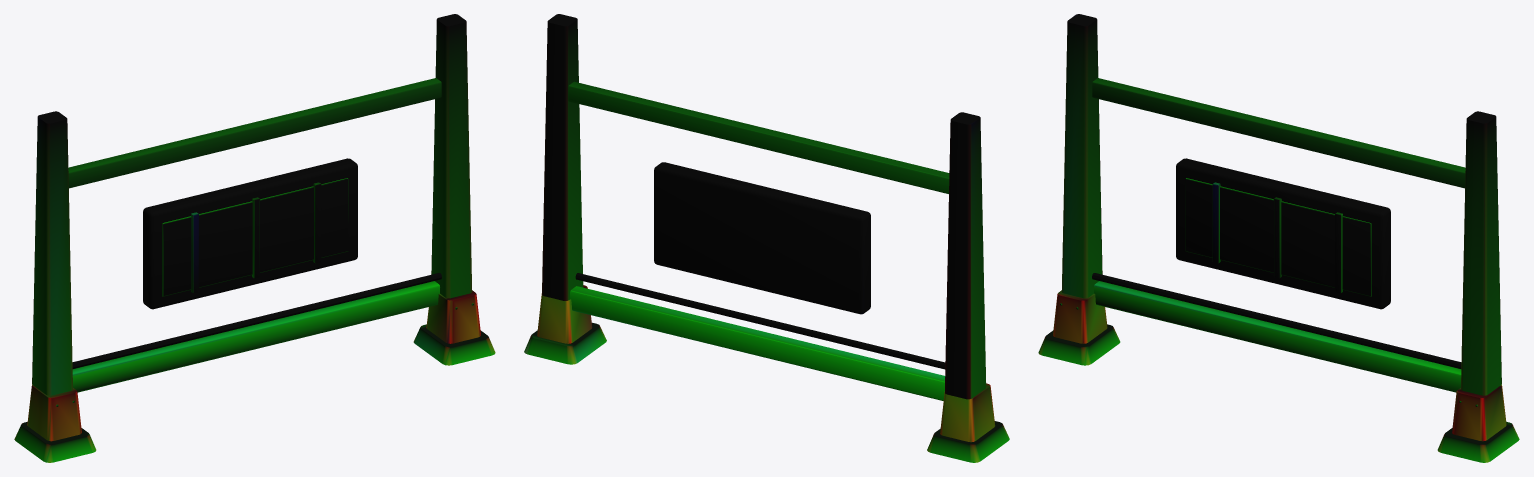
File: hero_wall_buttress.glb
3 views of the same model, side by side, from view 1: azimuth 30°, elevation 25°; view 2: azimuth 150°, elevation 25°; view 3: azimuth 330°, elevation 25° (orthographic).
Visible parts, largest first — view 1: HeroWallButtress; view 2: HeroWallButtress; view 3: HeroWallButtress.
Boxes of the visible parts, x1,y1,x2,y2 form: HeroWallButtress: (14, 14, 495, 462); HeroWallButtress: (524, 14, 1009, 462); HeroWallButtress: (1038, 14, 1519, 462).
Bounding box in the file's own units: 9.95 × 6.85 × 1.35.
